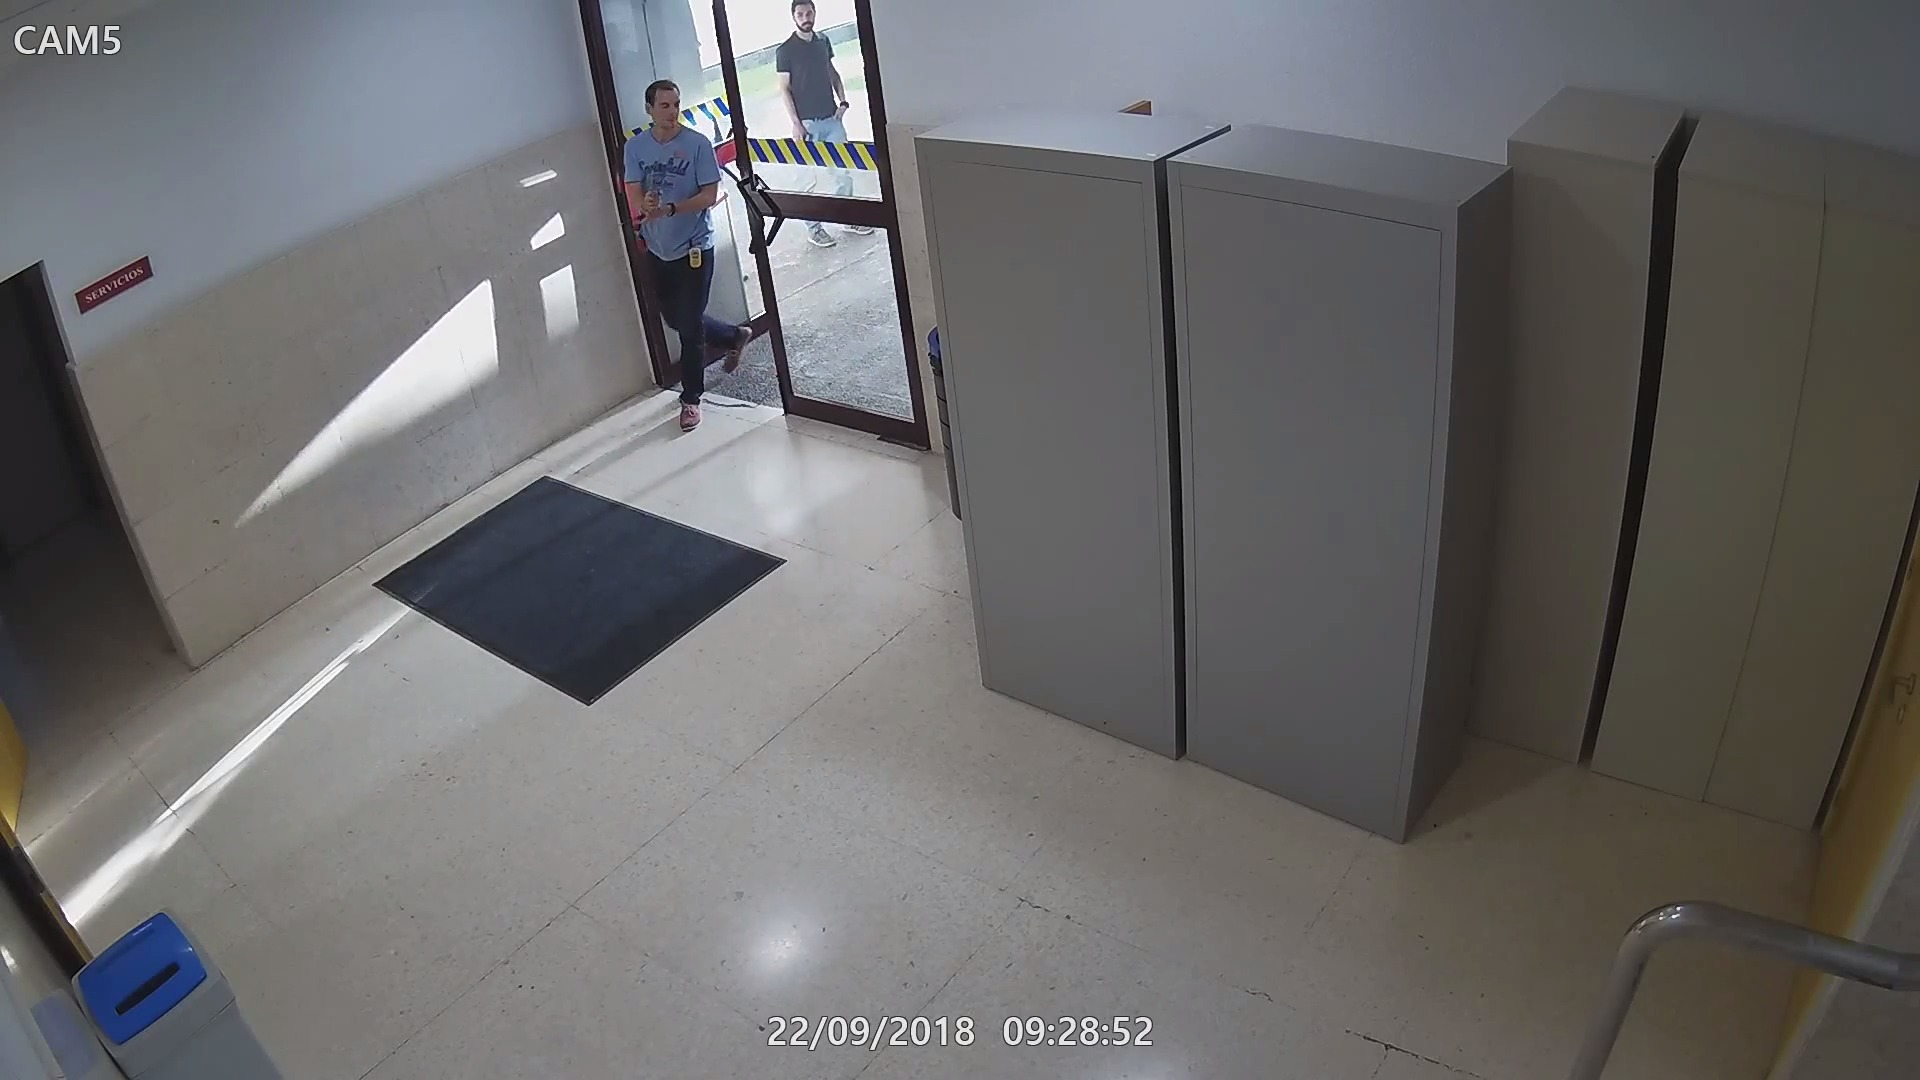Handgun: (637, 171, 670, 212)
Knife: (608, 202, 675, 228)
